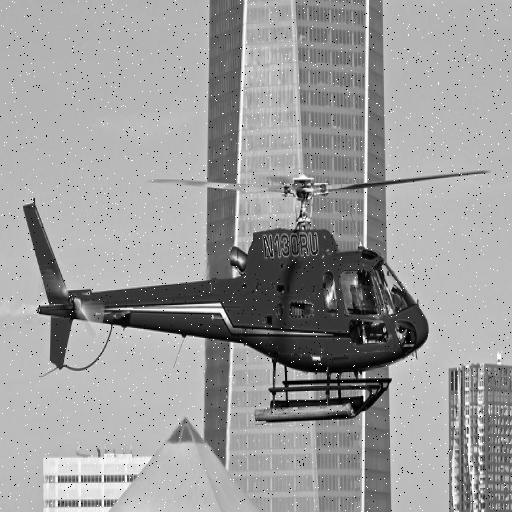helicopter: (15, 150, 498, 433)
